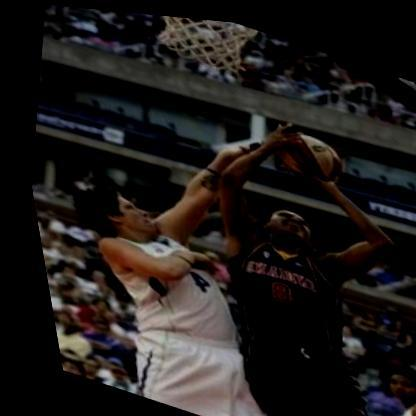basketball: (255, 110, 351, 186)
